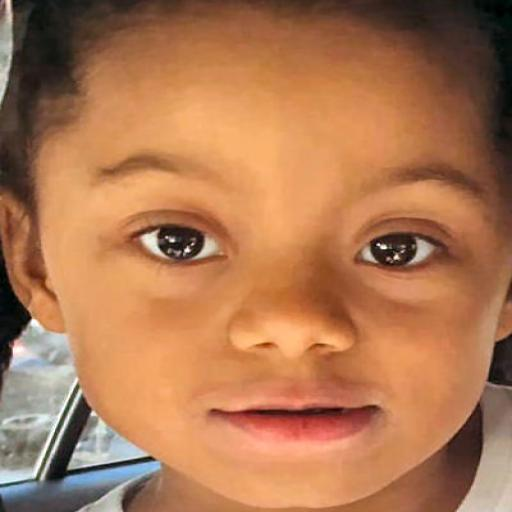Autism: (25, 13, 512, 511)
